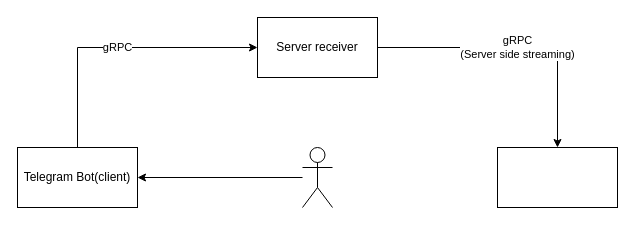
The diagram is 635 pixels wide and 246 high, and some of its shapes have lost their labels. Here are the shapes that lost their labels. From the top down, the centre of each, then its label:
At [317,177]: "User".
At [557,177]: "TV".
